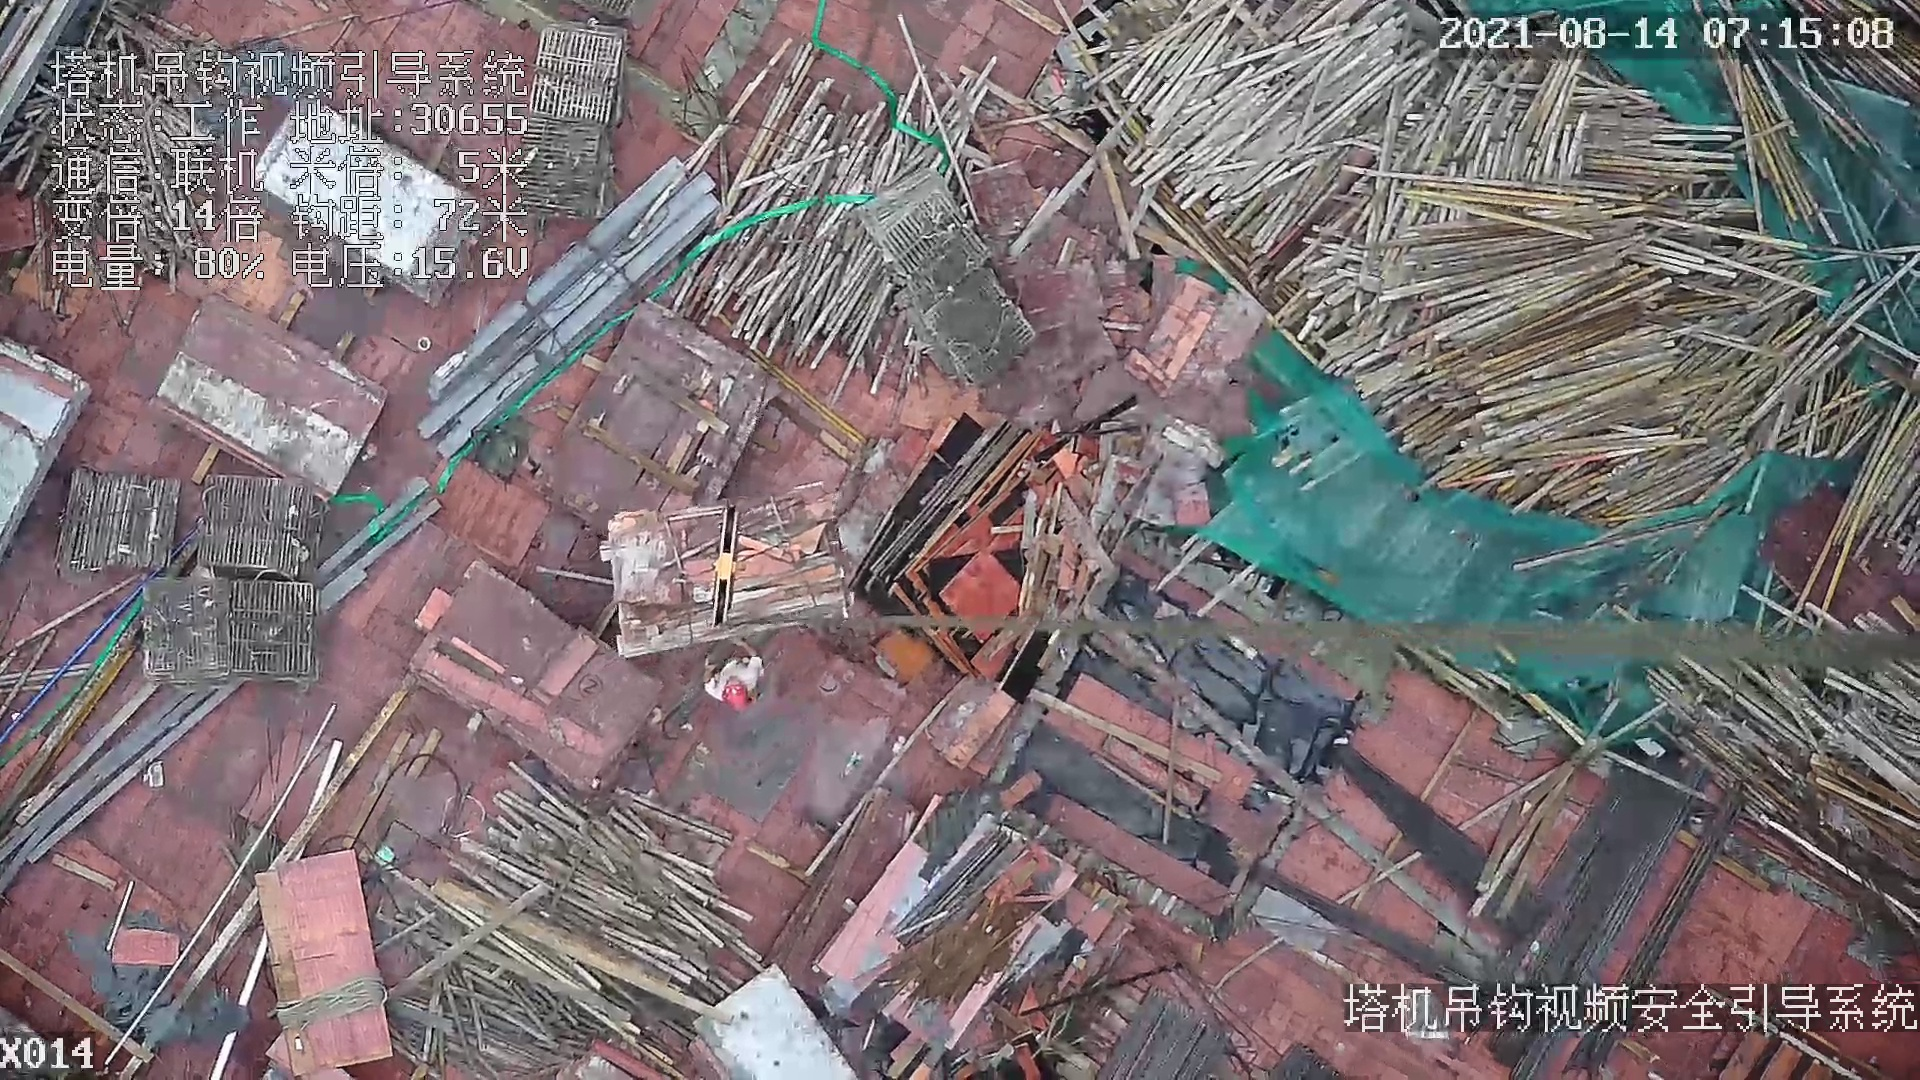helmet: (721, 687, 752, 715)
hook: (705, 505, 747, 632)
person: (695, 641, 755, 706)
